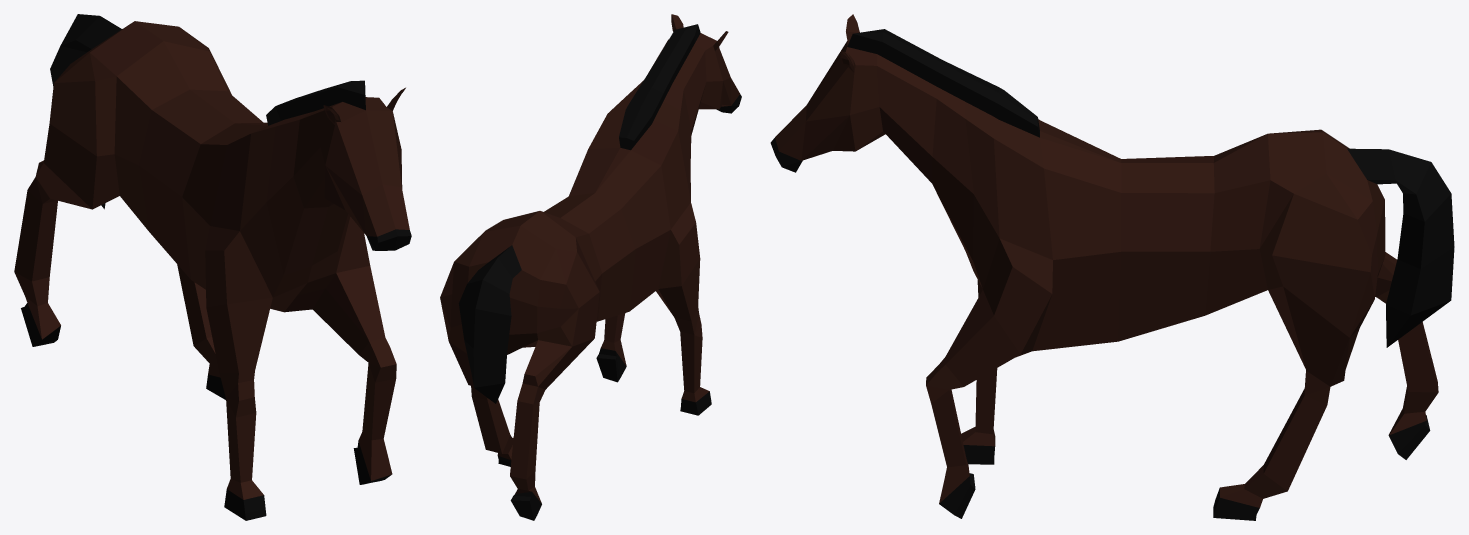
File: Horse_000024.obj
3 views of the same model, side by side, from view 1: azimuth 30°, elevation 25°; view 2: azimuth 150°, elevation 25°; view 3: azimuth 270°, elevation 25° (orthographic). The views are drawn at different scales.
Parts seen in each view (by area): view 1: Horse_Cylinder; view 2: Horse_Cylinder; view 3: Horse_Cylinder.
Boxes of the visible parts, x1,y1,x2,y2 form: Horse_Cylinder: [14, 14, 411, 520]; Horse_Cylinder: [440, 14, 741, 520]; Horse_Cylinder: [770, 14, 1454, 520].
Size of the model in its own units: 2.55 by 6.74 by 9.11.
